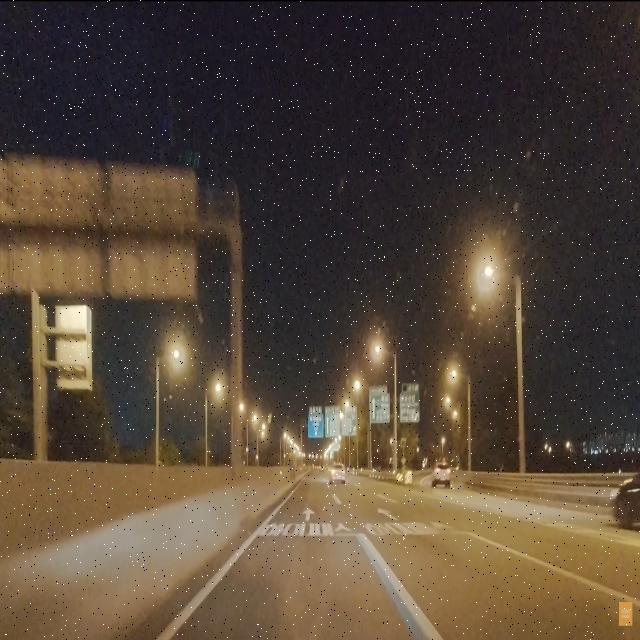forward: (262, 498, 357, 520)
